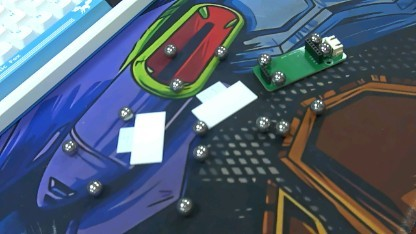ironball: (172, 192, 194, 213), (114, 102, 133, 126), (58, 135, 77, 155), (187, 117, 207, 135), (159, 40, 177, 59), (305, 98, 326, 114), (270, 70, 294, 84), (274, 118, 291, 137), (255, 48, 272, 67), (168, 74, 186, 90), (192, 144, 207, 163), (254, 114, 269, 131), (85, 177, 100, 193), (212, 43, 226, 60), (304, 29, 321, 42), (319, 41, 335, 54)
